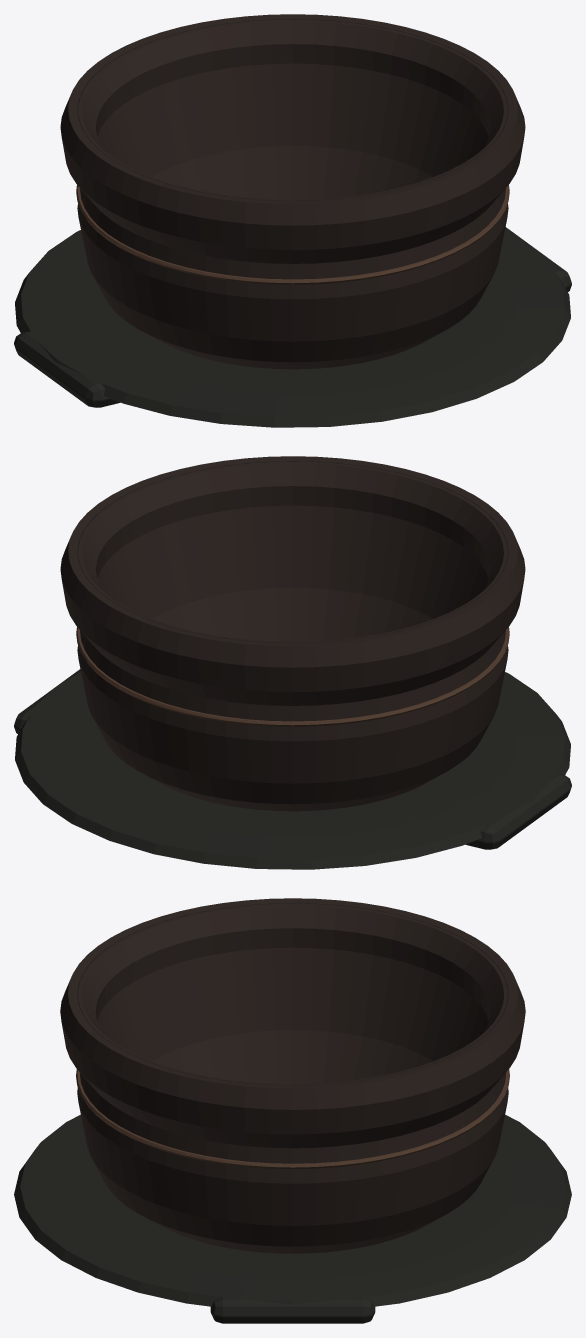
Rendered from pot.glb.
3 renders of one model, top to bottom at view 1: azimuth 30°, elevation 25°; view 2: azimuth 150°, elevation 25°; view 3: azimuth 270°, elevation 25°, orthographic.
Parts seen in each view (by area): view 1: 실내 조명 베이크용 pot; view 2: 실내 조명 베이크용 pot; view 3: 실내 조명 베이크용 pot.
Part boxes in pixels (x1=…): 실내 조명 베이크용 pot: x1=14, y1=14, x2=571, y2=427; 실내 조명 베이크용 pot: x1=14, y1=456, x2=571, y2=869; 실내 조명 베이크용 pot: x1=14, y1=898, x2=571, y2=1323.
Size of the model in its own units: 0.364 by 0.163 by 0.362.
